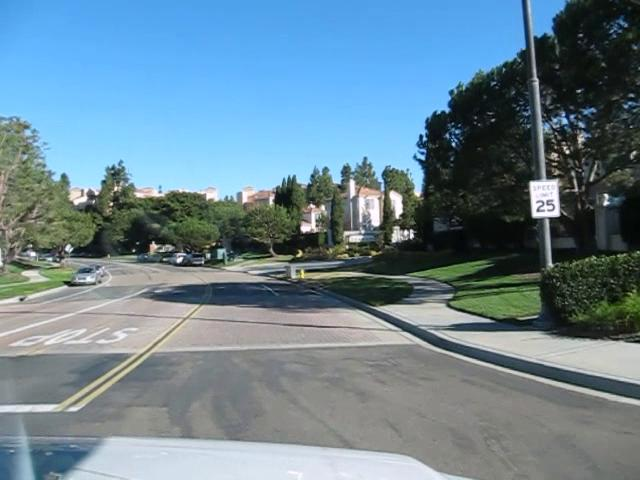speedLimit25: (529, 178, 561, 218)
